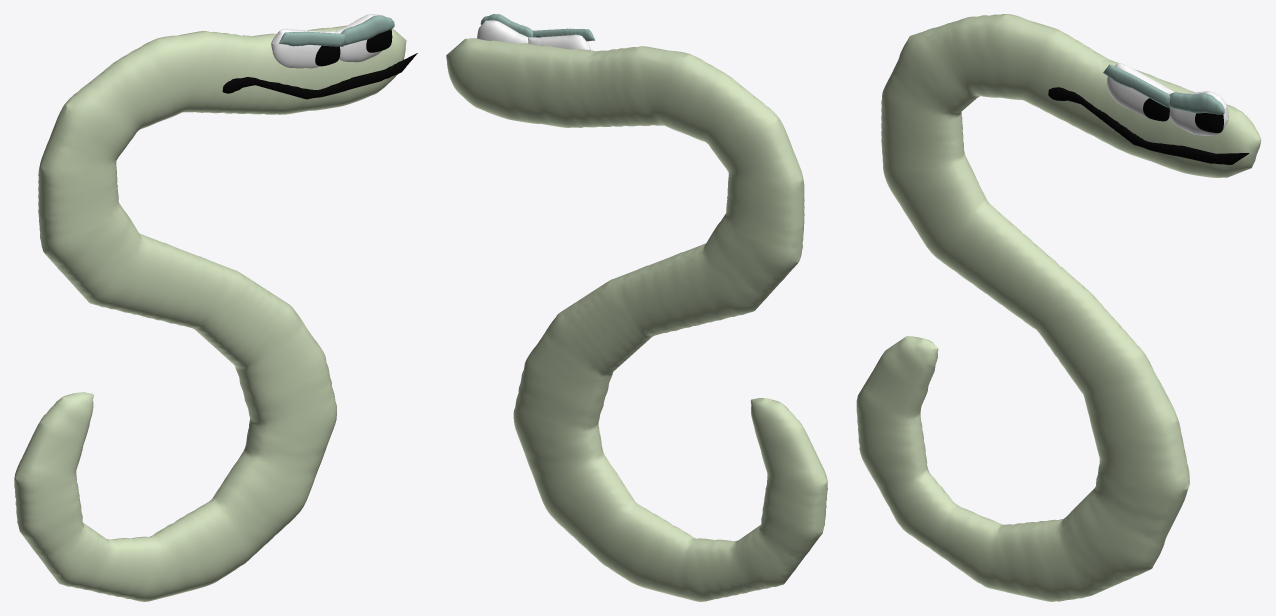
The model's file is s_alphabet_lore.glb.
The picture shows the model from 3 angles, left to right: view 1: azimuth 30°, elevation 25°; view 2: azimuth 150°, elevation 25°; view 3: azimuth 330°, elevation 25°; orthographic projection. The views are drawn at different scales.
Visible parts, largest first — view 1: root_Material_45_0, root_Material_83_0, root_Material_49_0, root_Material_63_0, root_Material_73_0, root_Material_53_0; view 2: root_Material_45_0, root_Material_53_0, root_Material_49_0; view 3: root_Material_45_0, root_Material_83_0, root_Material_49_0, root_Material_63_0, root_Material_73_0, root_Material_53_0.
Part boxes in pixels (x1,y1,x2,y2): root_Material_45_0: (14,25,406,601); root_Material_83_0: (222,53,417,99); root_Material_49_0: (271,28,335,68); root_Material_63_0: (341,15,394,45); root_Material_73_0: (279,31,345,46); root_Material_53_0: (335,14,381,62); root_Material_45_0: (446,38,827,601); root_Material_53_0: (477,20,528,43); root_Material_49_0: (528,34,590,50); root_Material_45_0: (856,14,1261,601); root_Material_83_0: (1048,87,1249,164); root_Material_49_0: (1107,63,1174,117); root_Material_63_0: (1169,92,1224,114); root_Material_73_0: (1103,64,1170,108); root_Material_53_0: (1169,91,1228,135).
Bounding box in the file's own units: 0.00505 × 0.00689 × 0.000583.
